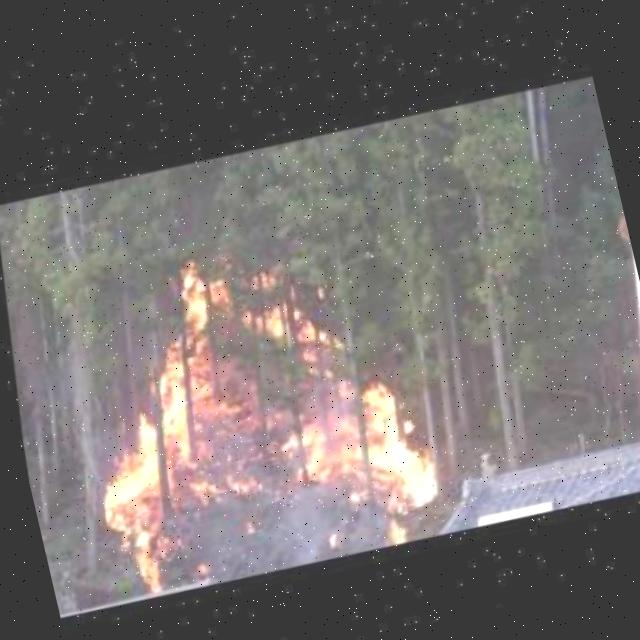fire: (39, 256, 265, 606), (247, 359, 448, 545), (188, 232, 357, 405), (218, 468, 259, 500), (378, 517, 408, 548)
